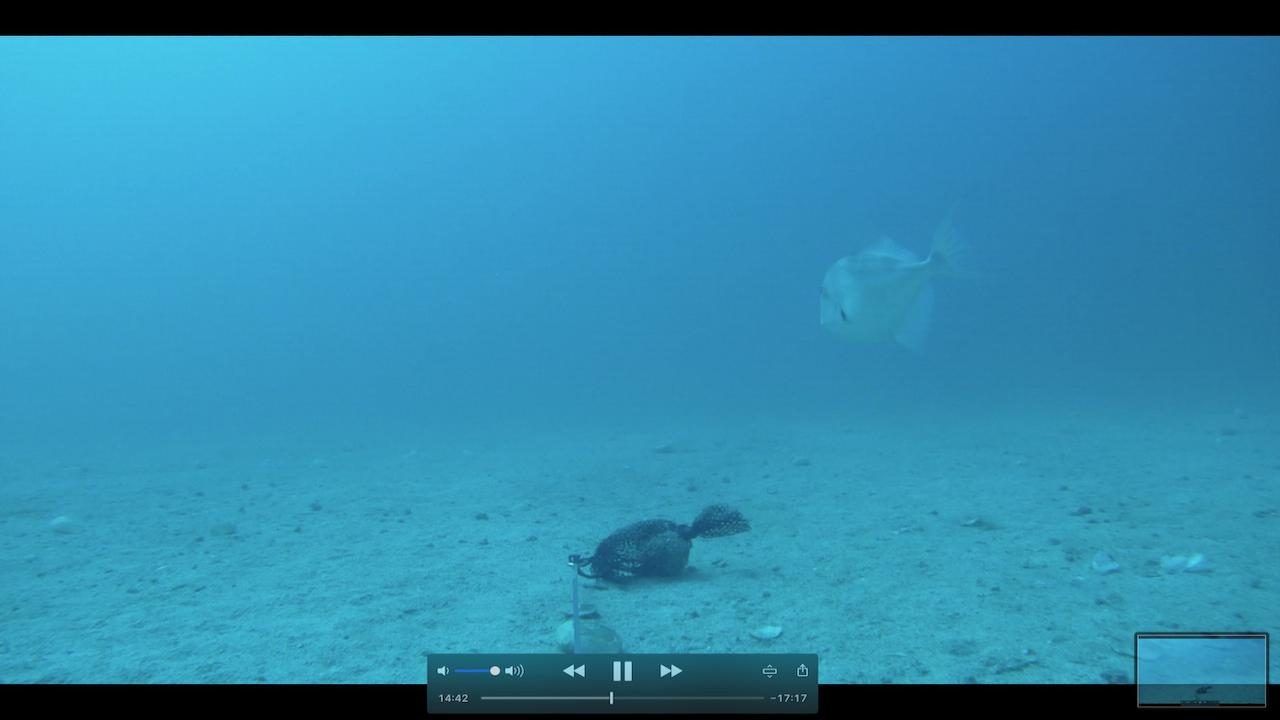balistes: (812, 184, 1005, 359)
